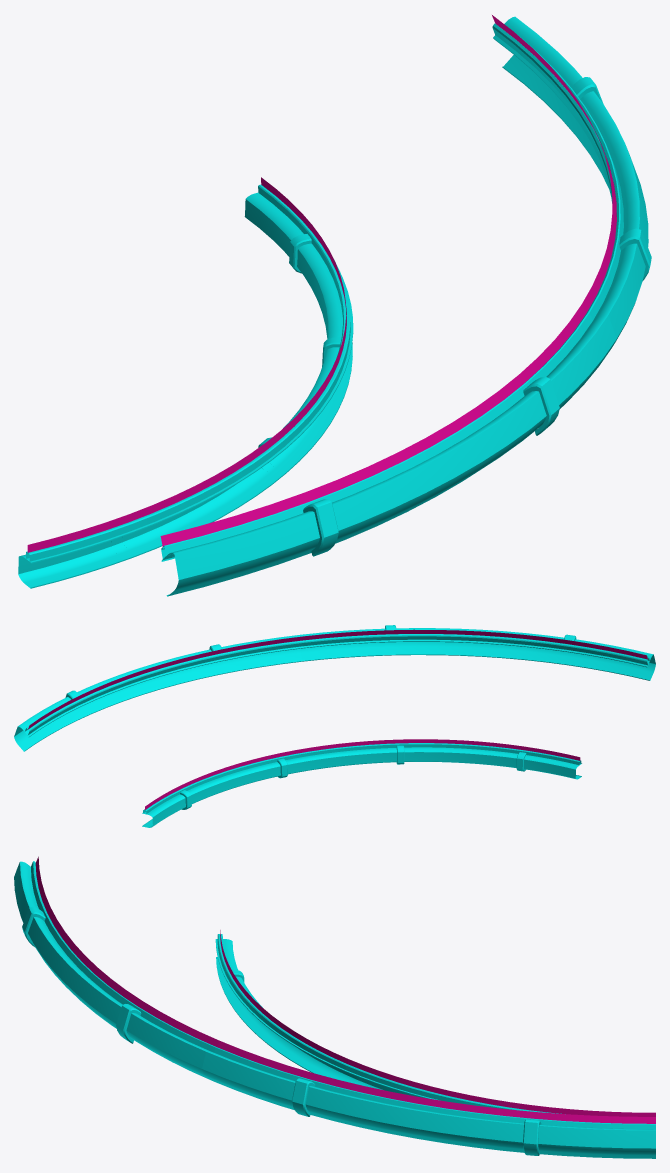
File: Mur_V_C_90x2.fbx
3 views of the same model, one above another, from view 1: azimuth 30°, elevation 25°; view 2: azimuth 150°, elevation 25°; view 3: azimuth 270°, elevation 25° (orthographic). The views are drawn at different scales.
Visible parts, largest first — view 1: polySurface1020; view 2: polySurface1020; view 3: polySurface1020.
Boxes of the visible parts, x1=… form: polySurface1020: x1=18, y1=15, x2=651, y2=596; polySurface1020: x1=14, y1=625, x2=655, y2=827; polySurface1020: x1=14, y1=856, x2=655, y2=1158.
Size of the model in its own units: 46.05 by 8.2 by 46.05.
